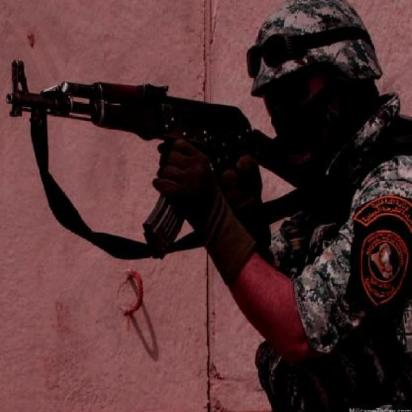Gun: (2, 56, 297, 251)
